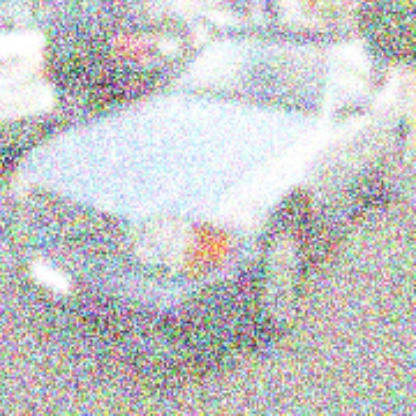Vehicle: (0, 24, 411, 359)
